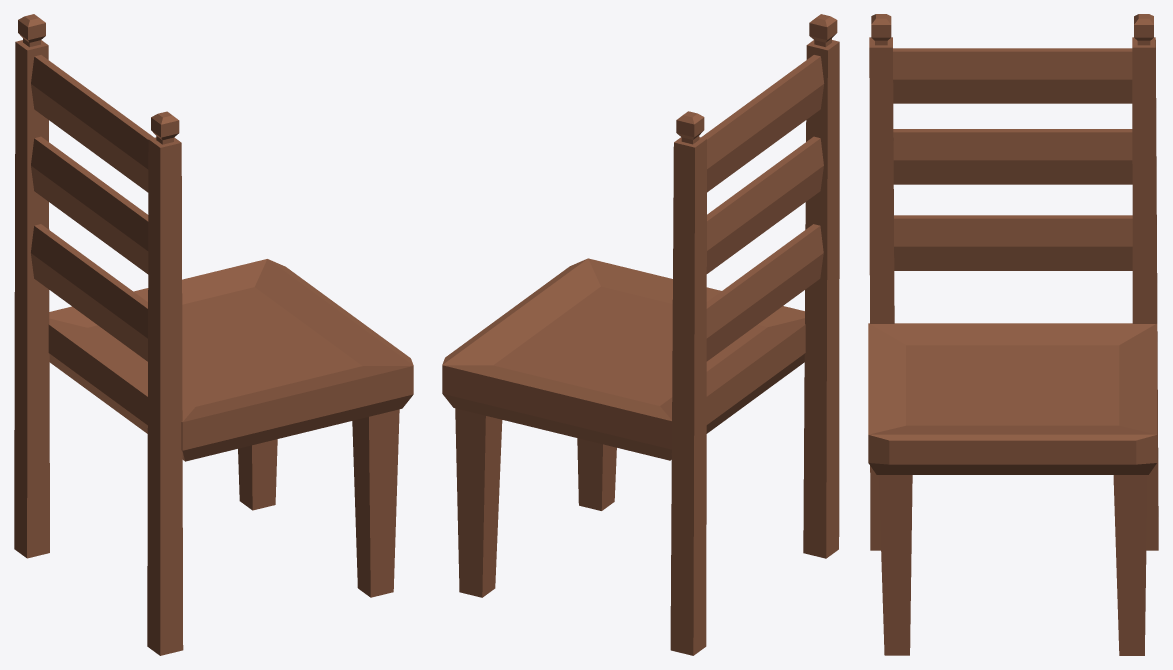
Rendered from dining chair .fbx.
The picture shows the model from 3 angles, left to right: view 1: azimuth 30°, elevation 25°; view 2: azimuth 150°, elevation 25°; view 3: azimuth 270°, elevation 25°; orthographic projection.
Visible parts, largest first — view 1: legs, seat, backing; view 2: legs, seat, backing; view 3: seat, backing, legs.
Part boxes in pixels (x1=…): legs: x1=14, y1=14, x2=399, y2=655; seat: x1=48, y1=259, x2=413, y2=461; backing: x1=31, y1=55, x2=154, y2=361; legs: x1=455, y1=14, x2=839, y2=655; seat: x1=442, y1=258, x2=805, y2=460; backing: x1=701, y1=55, x2=824, y2=361; seat: x1=868, y1=323, x2=1157, y2=474; backing: x1=893, y1=48, x2=1132, y2=270; legs: x1=869, y1=14, x2=1158, y2=655.
Bounding box in the file's own units: 183 × 359 × 179.
